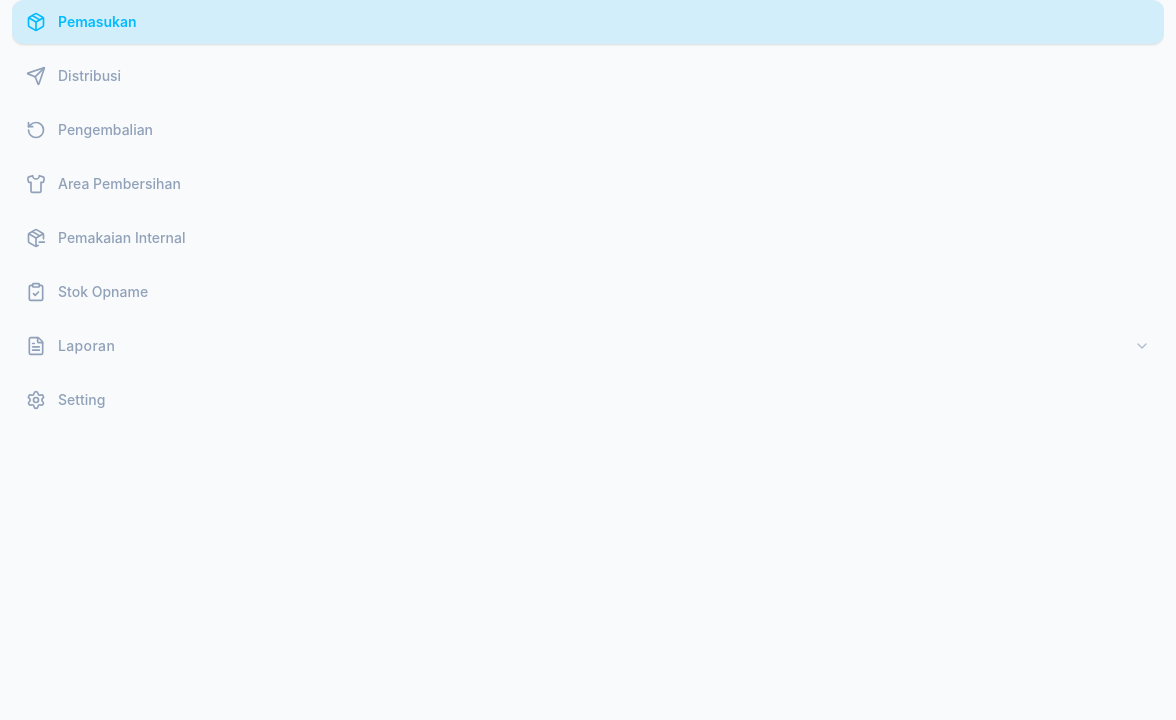
Test: SidebarNav for Laundry › hides Master Data for Laundry petugas while keeping reports visible
Click the button "Laporan": coordinates (87, 346) [12,324,1164,368]
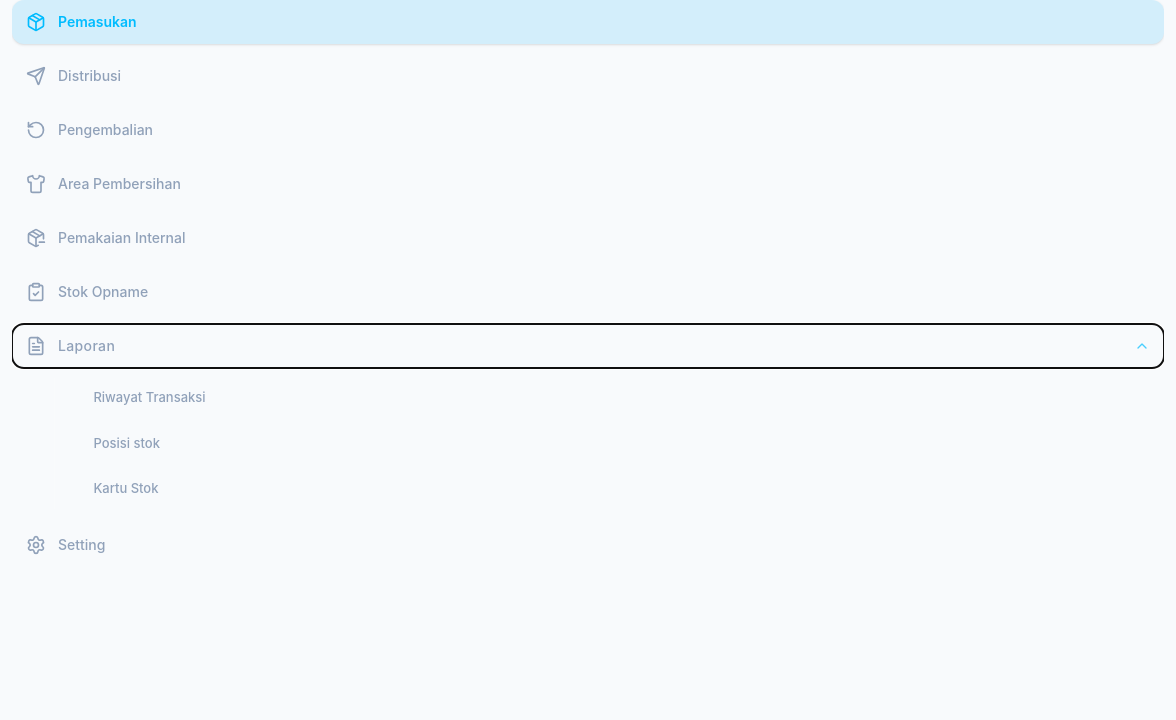
Expected: the link "Riwayat Transaksi" is shown, [93,389,206,405]
Expected: the link "Posisi stok" is shown, [93,434,160,450]
Expected: the link "Kartu Stok" is shown, [93,480,158,496]
